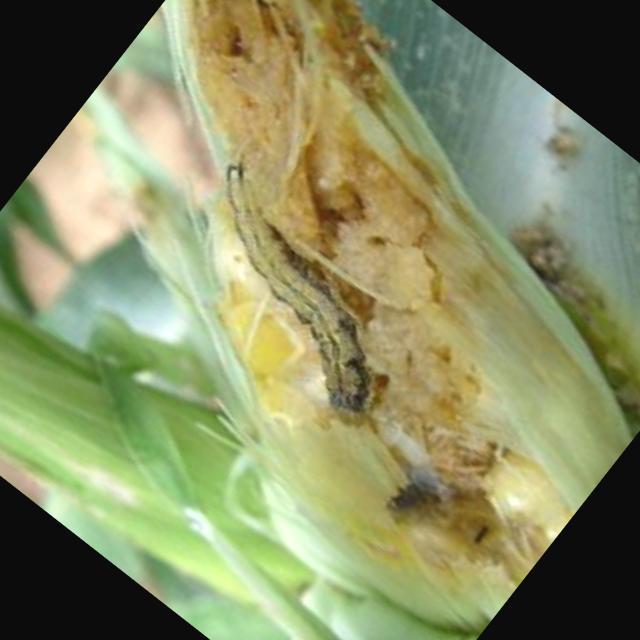Cotton bollworm: (74, 82, 508, 492)
